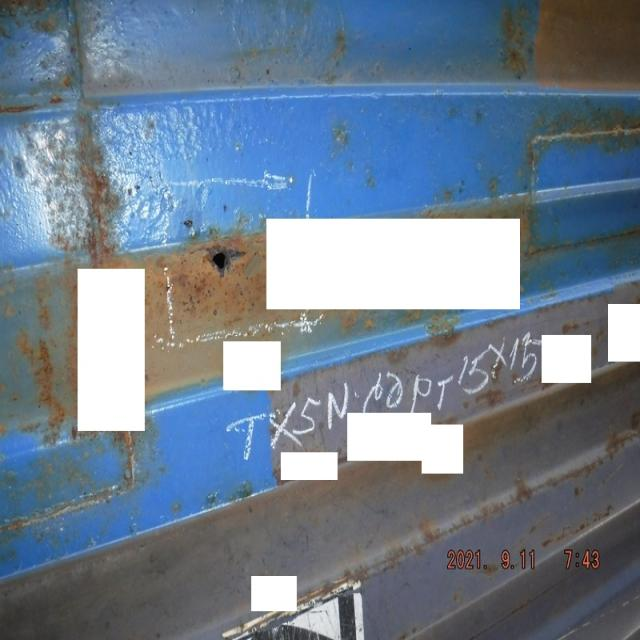hole: (203, 242, 249, 281)
